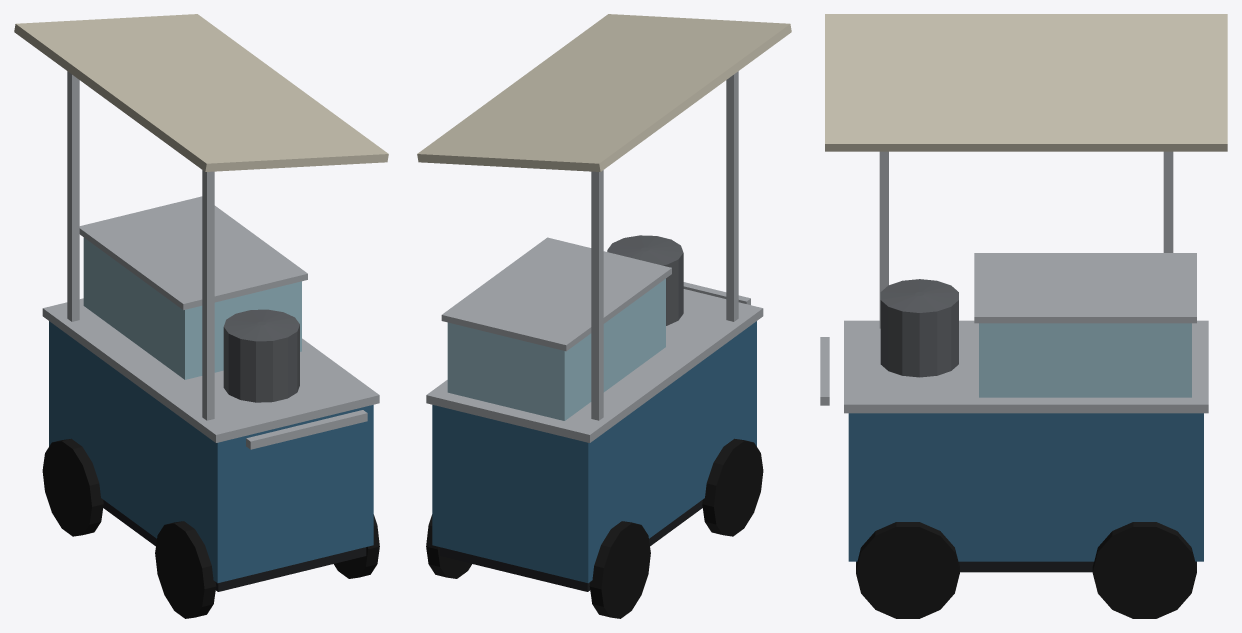
File: stall.glb
3 renders of one model, left to right at view 1: azimuth 30°, elevation 25°; view 2: azimuth 150°, elevation 25°; view 3: azimuth 270°, elevation 25°, orthographic. The views are drawn at different scales.
Parts seen in each view (by area): view 1: stall; view 2: stall; view 3: stall.
Boxes of the visible parts, x1,y1,x2,y2 form: stall: (14, 14, 388, 618); stall: (417, 14, 791, 618); stall: (820, 14, 1227, 618).
Size of the model in its own units: 0.9709 by 2.37 by 1.72.
